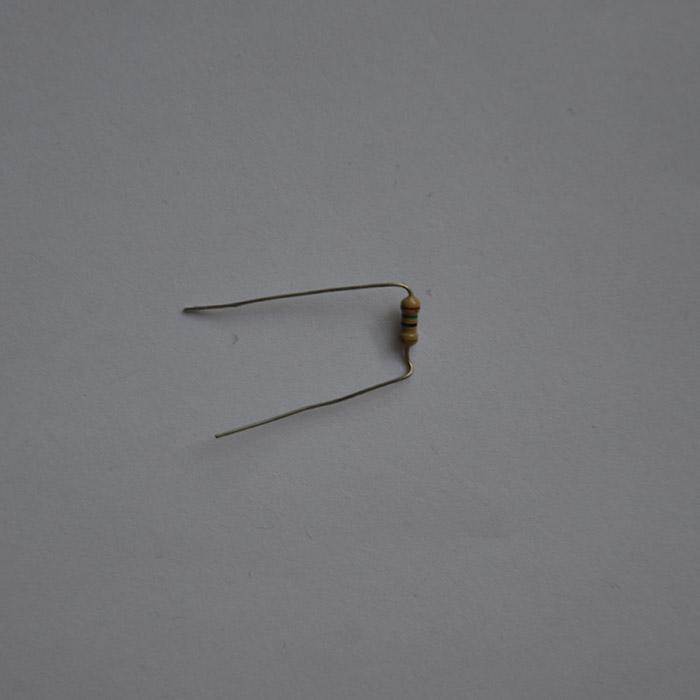resistor: (398, 294, 420, 346)
